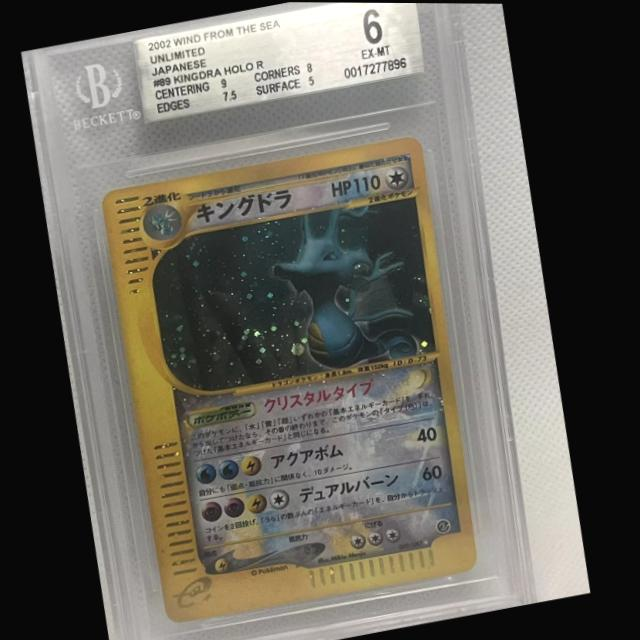bgs_label: (131, 2, 427, 125)
bgs_slab: (22, 2, 544, 640)
card: (101, 133, 485, 625)
